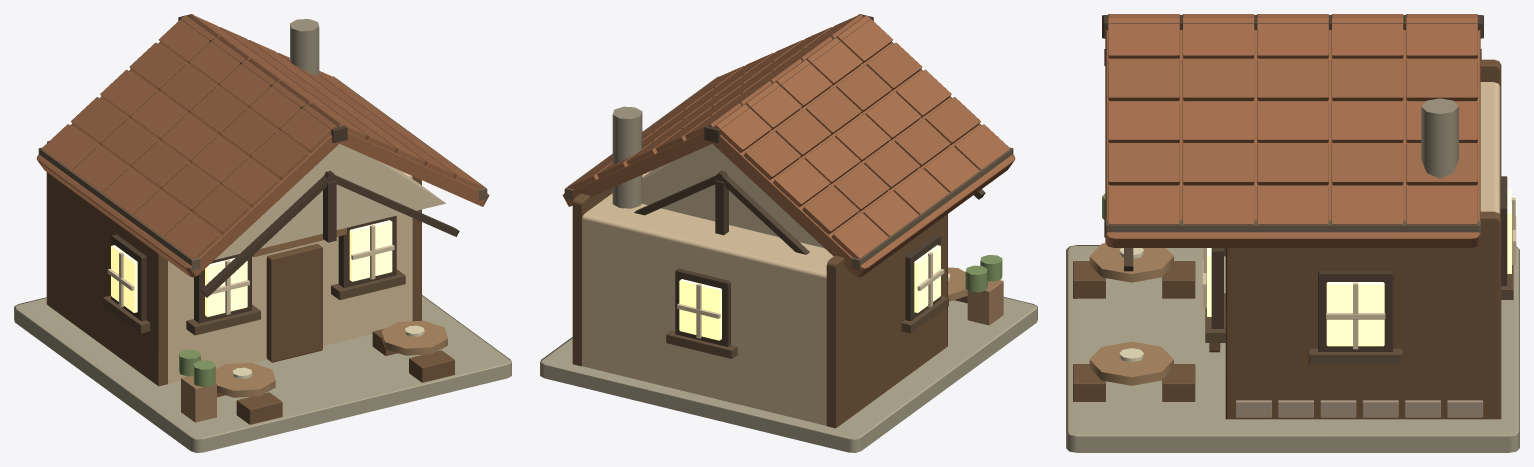
Rendered from restaurant-0.glb.
The picture shows the model from 3 angles, left to right: view 1: azimuth 30°, elevation 25°; view 2: azimuth 150°, elevation 25°; view 3: azimuth 270°, elevation 25°; orthographic projection. The views are drawn at different scales.
Visible parts, largest first — view 1: restaurant-0-0; view 2: restaurant-0-0; view 3: restaurant-0-0.
Part boxes in pixels (<box>): restaurant-0-0: <box>14,14,511,452</box>; restaurant-0-0: <box>540,14,1037,452</box>; restaurant-0-0: <box>1066,14,1519,452</box>.
Size of the model in its own units: 2.9 by 2.41 by 2.9.
